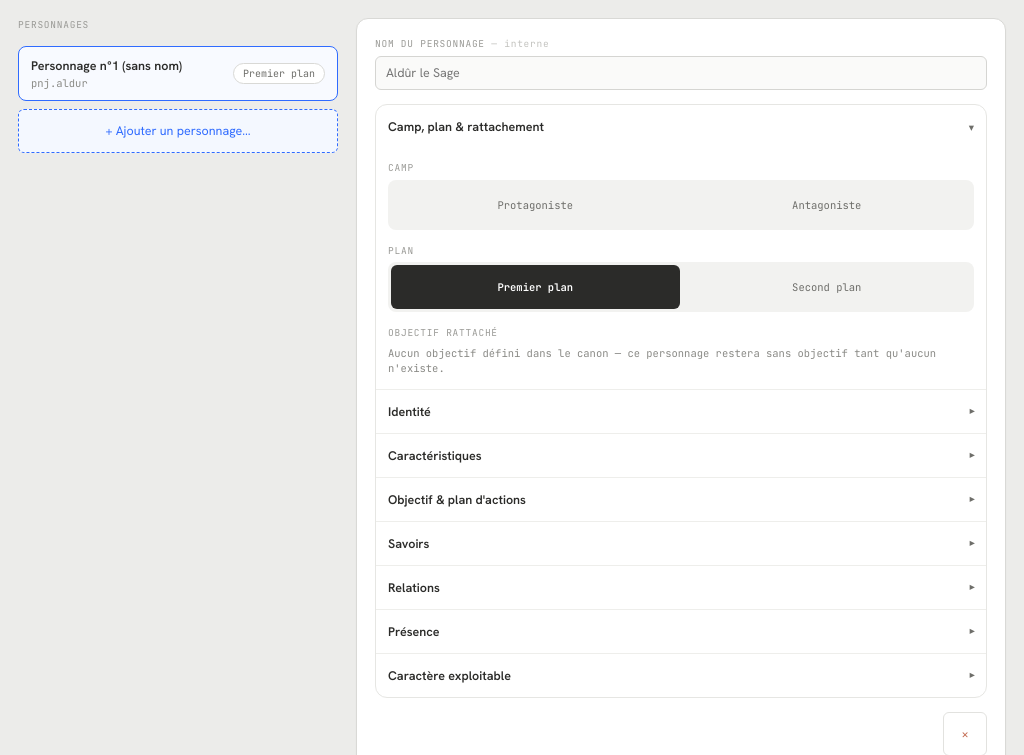
Scenario: FichePersonnage - bloc Caracteristiques › le clic sur regler ecrit les 8 cles en un seul commit
Click the button "Caractéristiques ▾": (435, 455) [376,433,986,477]
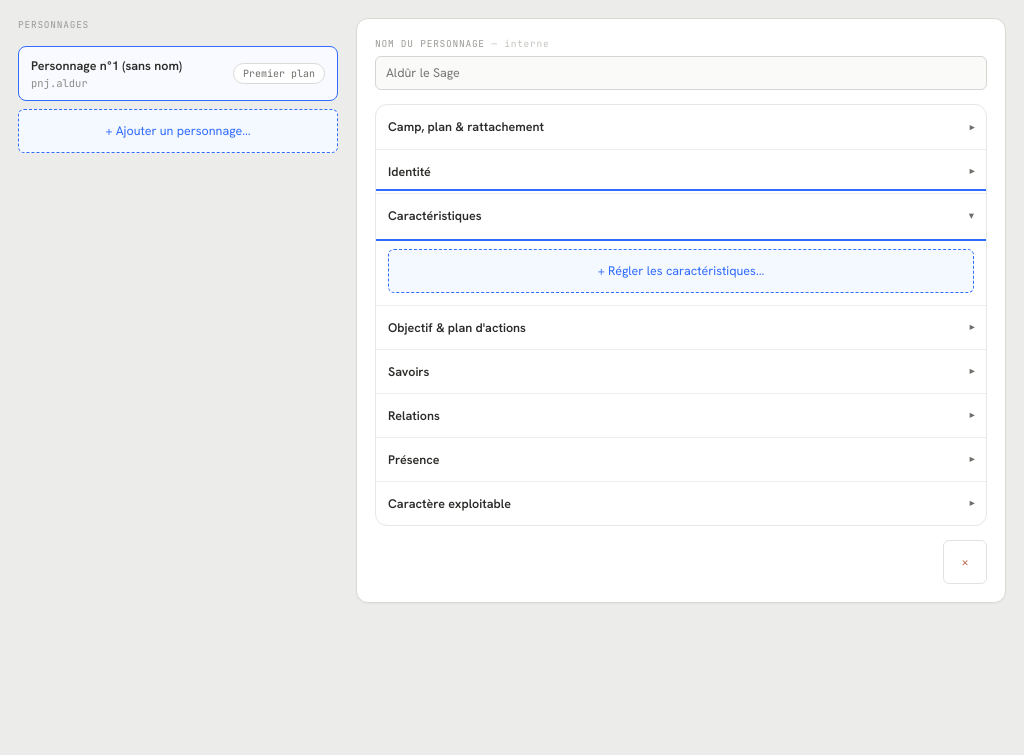
Click the button "+ Régler les caractéristiques…": (681, 271) [388,249,974,293]
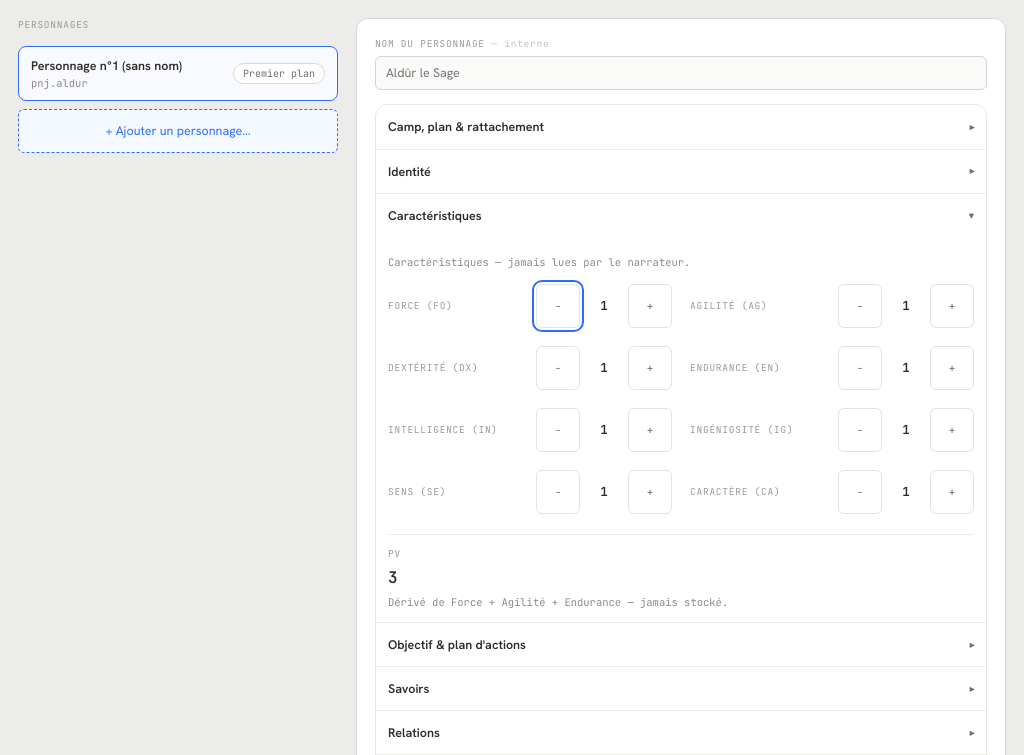
Result: the button "+ Régler les caractéristiques…" is gone
Result: the button named "Diminuer FORCE (FO)" is shown at [536,284,580,328]
Result: the text "3" is shown at [388,567,398,588]
